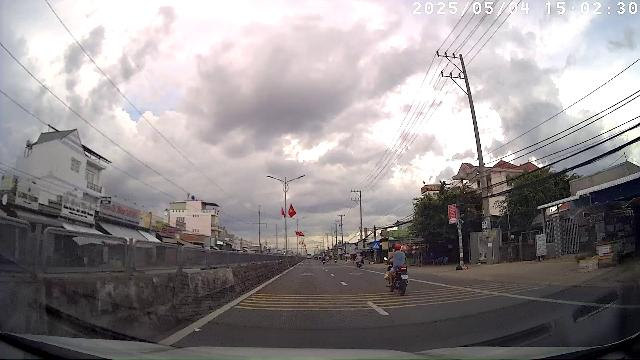423a-duong-nguoi-di-bo-sang-ngang-1: (372, 241, 380, 249)
